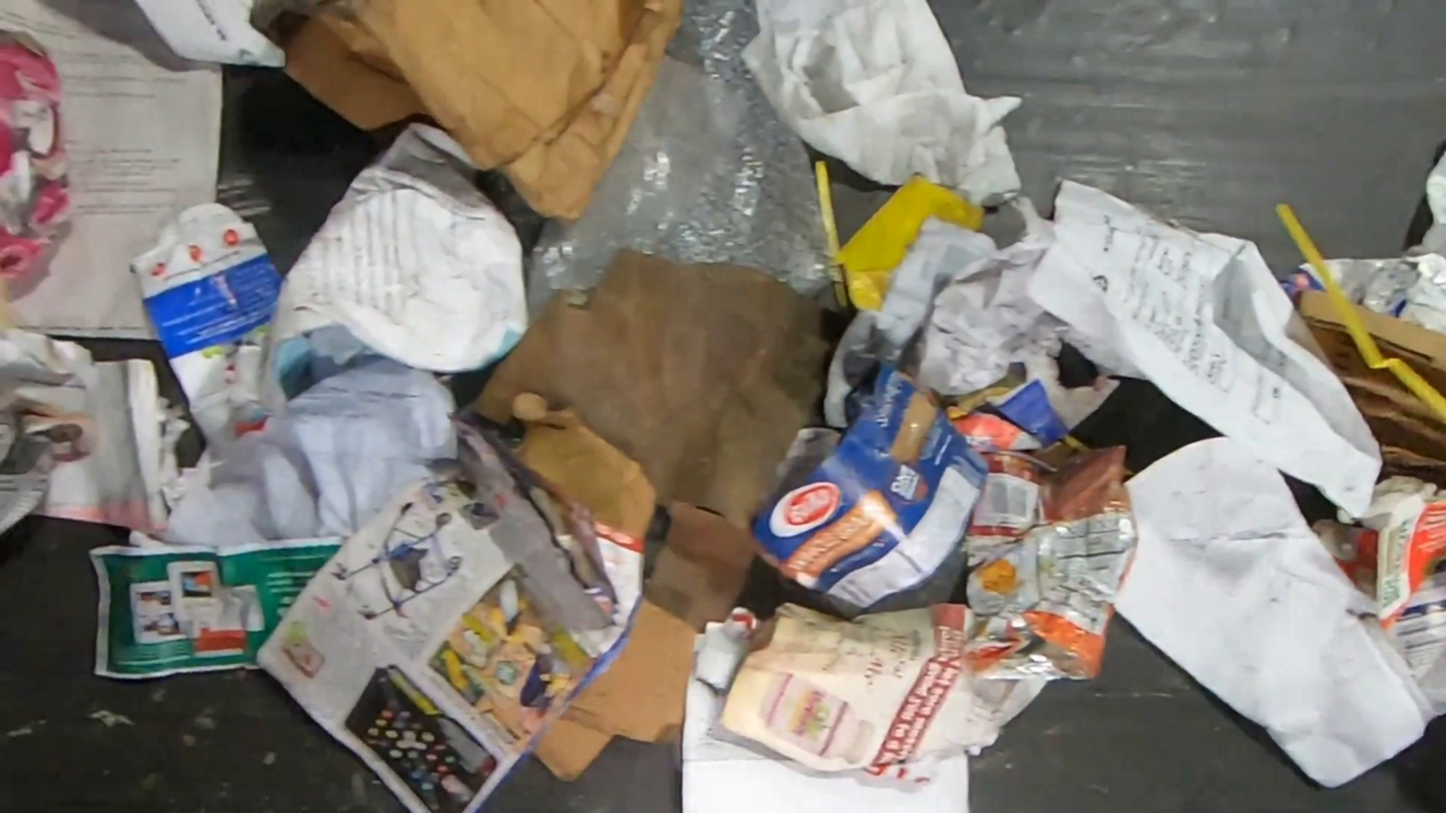cardboard: (744, 357, 990, 620), (531, 596, 699, 783), (1298, 286, 1446, 491), (510, 390, 660, 543), (0, 26, 79, 285), (1309, 492, 1446, 631), (1353, 301, 1446, 401)
plastic: (525, 0, 842, 327), (958, 444, 1141, 681)
